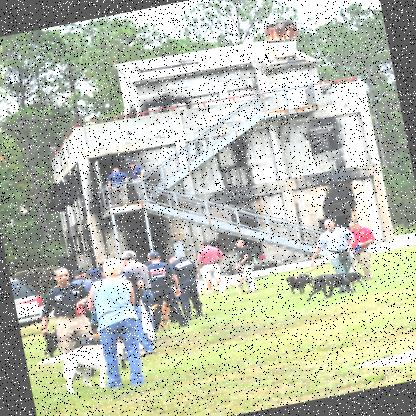Car: (10, 271, 52, 338)
